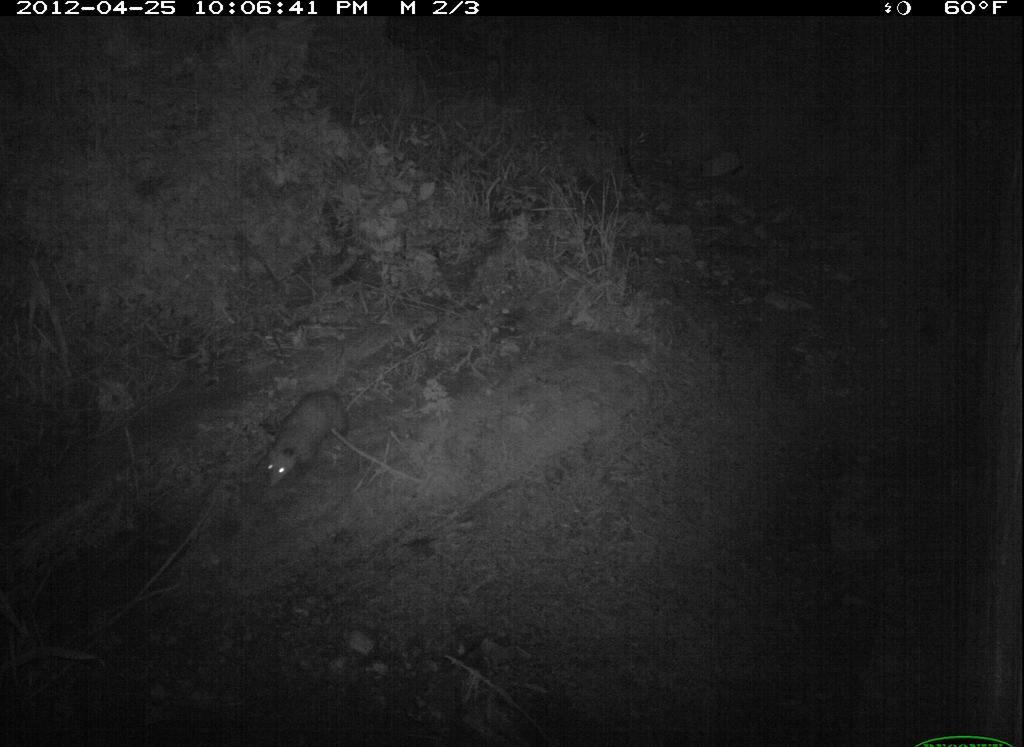opossum: (262, 360, 390, 504)
